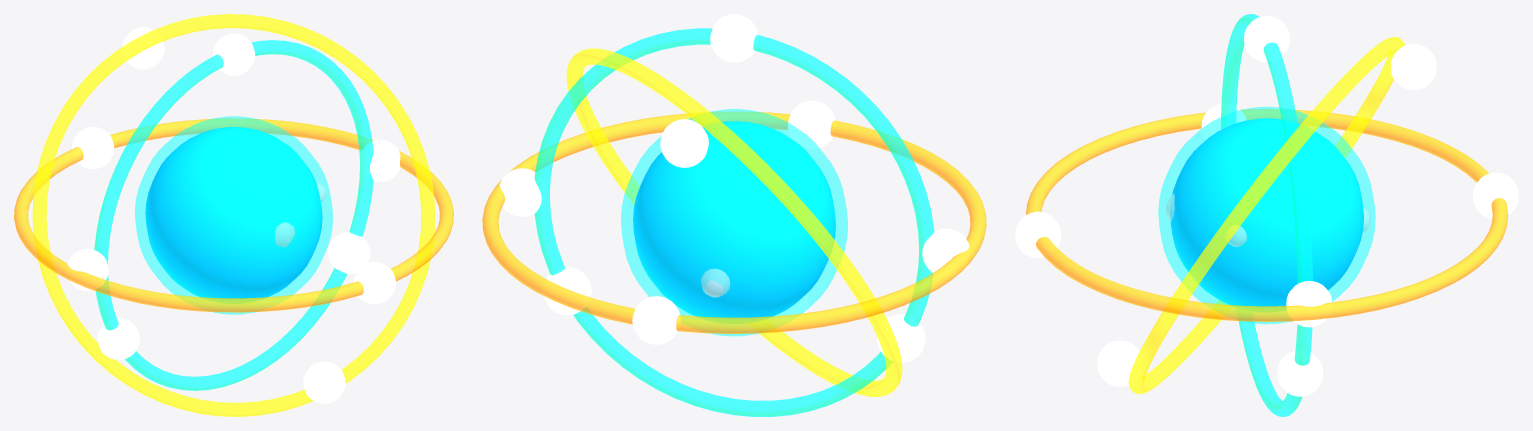
File: atom.glb
3 views of the same model, side by side, from view 1: azimuth 30°, elevation 25°; view 2: azimuth 150°, elevation 25°; view 3: azimuth 270°, elevation 25° (orthographic). The views are drawn at different scales.
Size of the model in its own units: 1.24 by 1.08 by 1.29.
